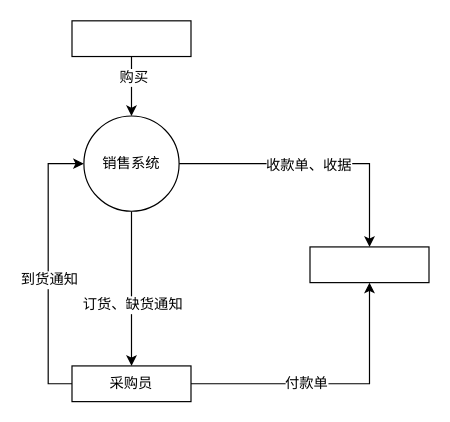
This 450x422 diagram has some shape labels left out. The box of each missing label's shape, as (x1, y1, x2, y2) in pixels:
会计: (309, 246, 429, 283)
客户: (71, 20, 191, 57)
